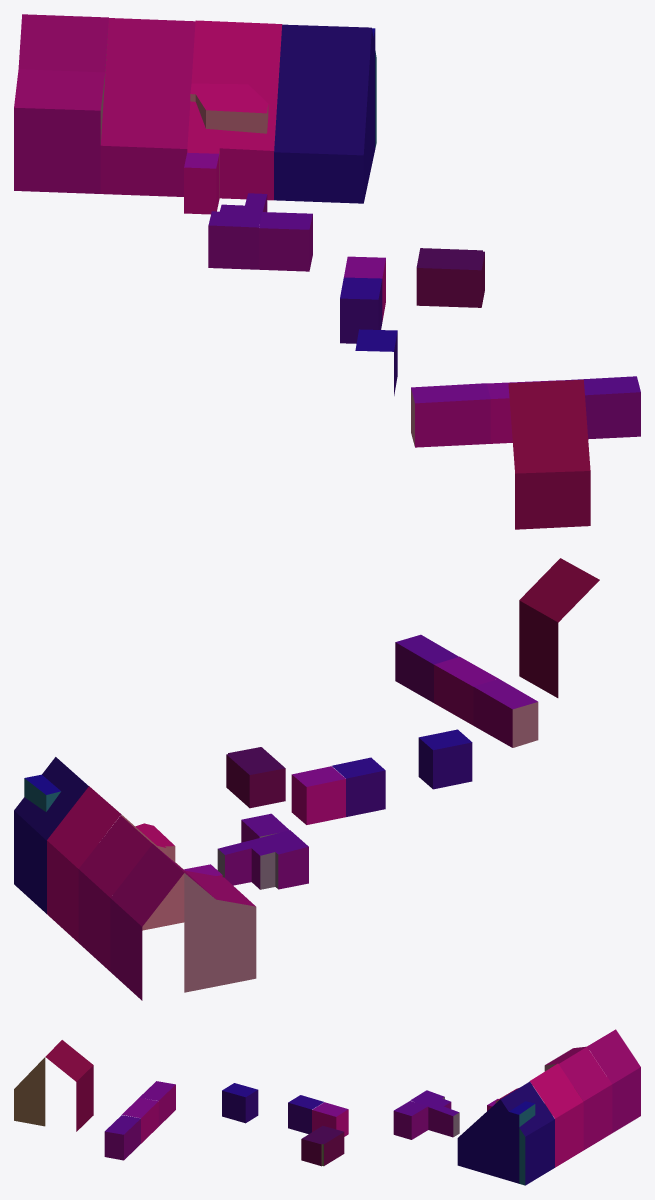
The model's file is buildings_14_13.glb.
3 renders of one model, top to bottom at view 1: azimuth 30°, elevation 25°; view 2: azimuth 150°, elevation 25°; view 3: azimuth 270°, elevation 25°, orthographic. The views are drawn at different scales.
Parts seen in each view (by area): view 1: buildings_14_13; view 2: buildings_14_13; view 3: buildings_14_13.
Boxes of the visible parts, bbox=[...] form: buildings_14_13: bbox=[14, 14, 640, 529]; buildings_14_13: bbox=[14, 558, 599, 1000]; buildings_14_13: bbox=[14, 1029, 640, 1185].
Size of the model in its own units: 22.98 by 9.5 by 67.8.
